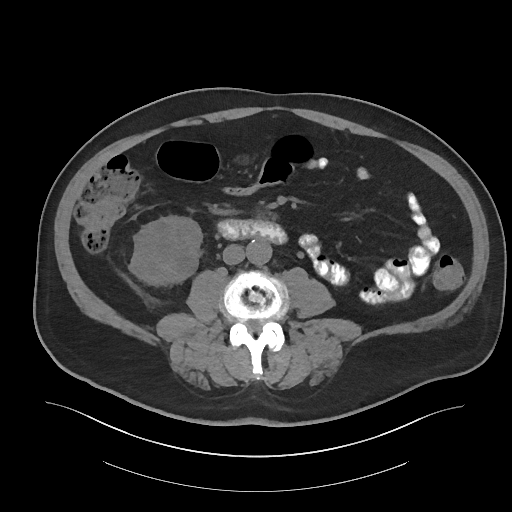Lesion: (130, 220, 199, 284)
